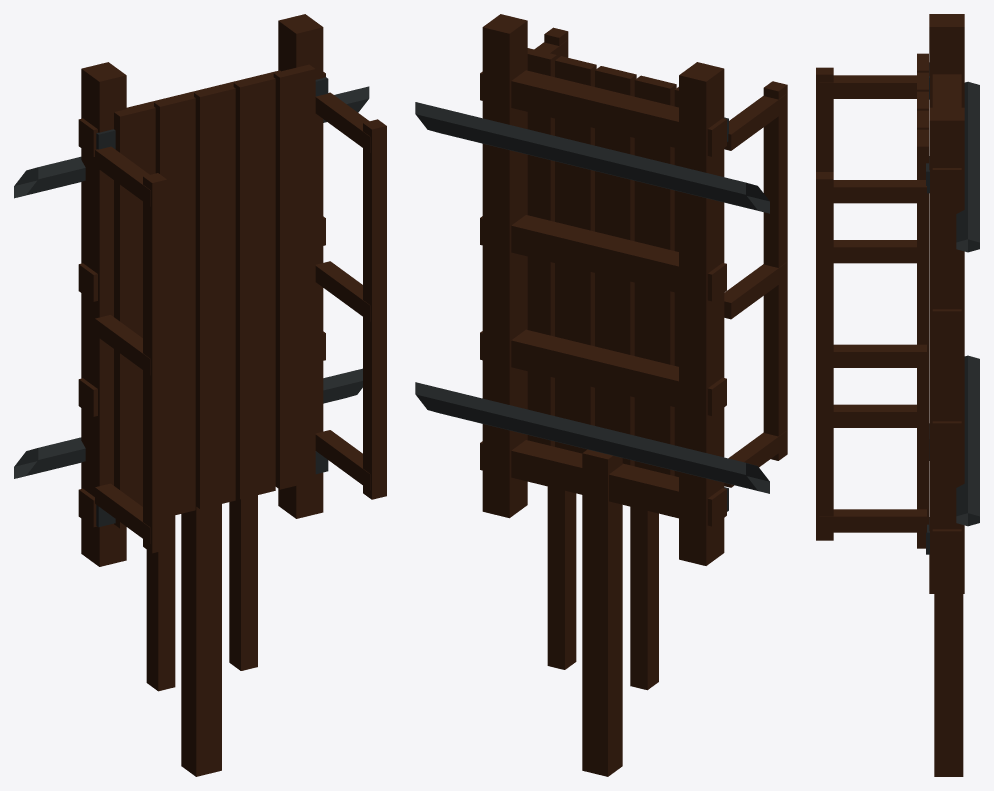
File: chassis_LOD1.obj
3 renders of one model, left to right at view 1: azimuth 30°, elevation 25°; view 2: azimuth 150°, elevation 25°; view 3: azimuth 270°, elevation 25°, orthographic. The views are drawn at different scales.
Visible parts, largest first — view 1: oak_deck, oak_drawbar, oak_longitudinal_rails, oak_side_rails, oak_side_posts, iron_axles, oak_crossmembers, iron_straps; view 2: oak_longitudinal_rails, oak_deck, oak_crossmembers, oak_drawbar, iron_axles, oak_side_rails, oak_side_posts; view 3: oak_longitudinal_rails, oak_side_posts, oak_side_rails, iron_axles, oak_drawbar, oak_deck, oak_crossmembers, iron_straps.
Part boxes in pixels (x1=…): oak_deck: x1=114, y1=64, x2=315, y2=528; oak_drawbar: x1=146, y1=495, x2=257, y2=776; oak_longitudinal_rails: x1=81, y1=14, x2=323, y2=566; oak_side_rails: x1=143, y1=119, x2=386, y2=553; oak_side_posts: x1=95, y1=92, x2=370, y2=543; iron_axles: x1=14, y1=86, x2=369, y2=478; oak_crossmembers: x1=78, y1=70, x2=325, y2=527; iron_straps: x1=96, y1=77, x2=328, y2=527; oak_longitudinal_rails: x1=482, y1=14, x2=724, y2=565; oak_deck: x1=527, y1=48, x2=678, y2=476; oak_crossmembers: x1=480, y1=70, x2=726, y2=526; oak_drawbar: x1=547, y1=449, x2=658, y2=776; iron_axles: x1=415, y1=102, x2=769, y2=493; oak_side_rails: x1=544, y1=27, x2=787, y2=460; oak_side_posts: x1=534, y1=40, x2=786, y2=487; oak_longitudinal_rails: x1=929, y1=14, x2=964, y2=593; oak_side_posts: x1=819, y1=75, x2=926, y2=532; oak_side_rails: x1=816, y1=67, x2=833, y2=540; iron_axles: x1=956, y1=81, x2=979, y2=526; oak_drawbar: x1=934, y1=594, x2=963, y2=776; oak_deck: x1=917, y1=53, x2=928, y2=548; oak_crossmembers: x1=932, y1=74, x2=961, y2=557; iron_straps: x1=926, y1=62, x2=929, y2=554.
Size of the model in its own units: 2.49 by 4.83 by 1.02.
